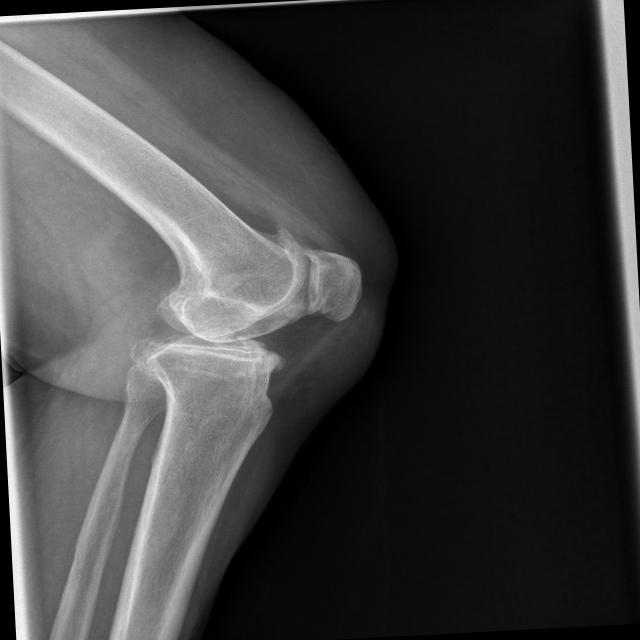Knee: (139, 230, 369, 404)
